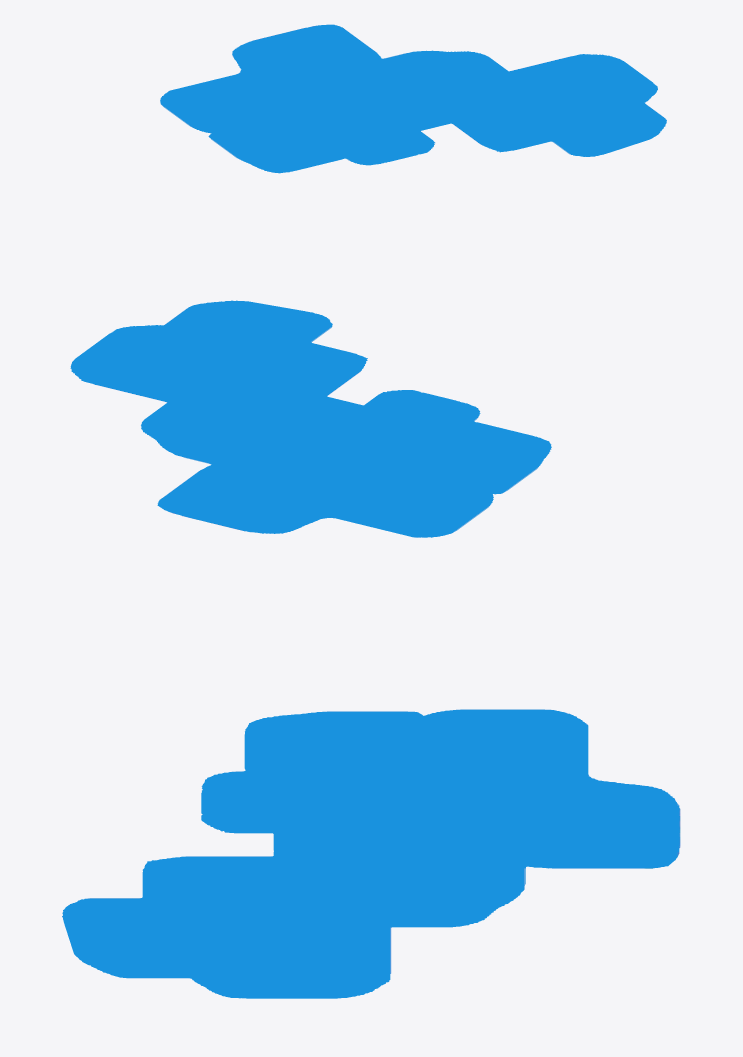
The model's file is DecaleA.FBX.
3 renders of one model, top to bottom at view 1: azimuth 30°, elevation 25°; view 2: azimuth 150°, elevation 25°; view 3: azimuth 270°, elevation 25°, orthographic. The views are drawn at different scales.
Visible parts, largest first — view 1: Object019; view 2: Object019; view 3: Object019.
Part boxes in pixels (x1=…): Object019: x1=160, y1=24, x2=666, y2=173; Object019: x1=70, y1=300, x2=551, y2=537; Object019: x1=62, y1=709, x2=680, y2=998.
Size of the model in its own units: 3.22 by 1.69e-07 by 2.26.
